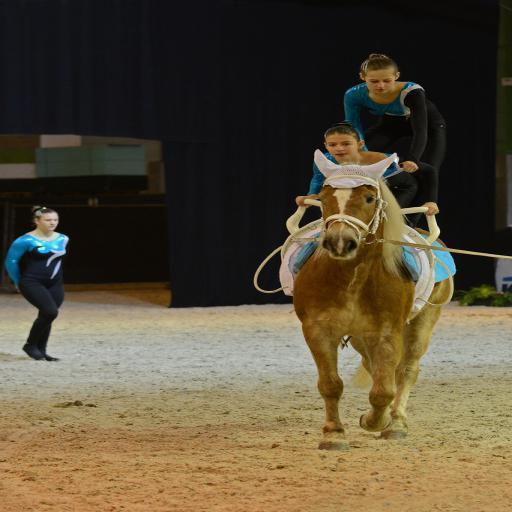horse: (290, 148, 455, 452)
